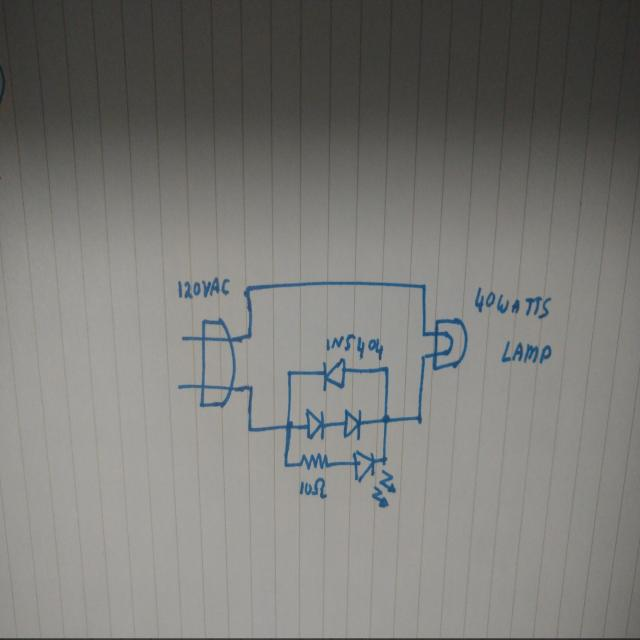diode: (349, 448, 401, 508), (320, 356, 348, 393), (302, 405, 326, 442), (341, 405, 364, 443)
junction: (378, 412, 392, 428), (418, 279, 432, 294), (413, 409, 425, 426), (244, 328, 256, 344), (243, 281, 254, 297), (284, 416, 294, 433), (245, 381, 256, 396), (382, 363, 392, 375), (245, 424, 255, 436), (420, 328, 430, 340), (419, 350, 428, 363), (282, 458, 290, 472), (285, 368, 295, 378)
resistor: (298, 452, 330, 472)
terminal: (174, 381, 185, 393), (178, 334, 188, 344)
text: (472, 283, 554, 323), (323, 330, 385, 362), (497, 336, 553, 371), (173, 274, 231, 304), (297, 476, 330, 502)
